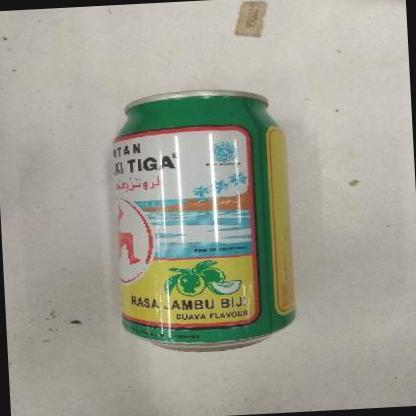alumunium_can: (108, 83, 300, 358)
